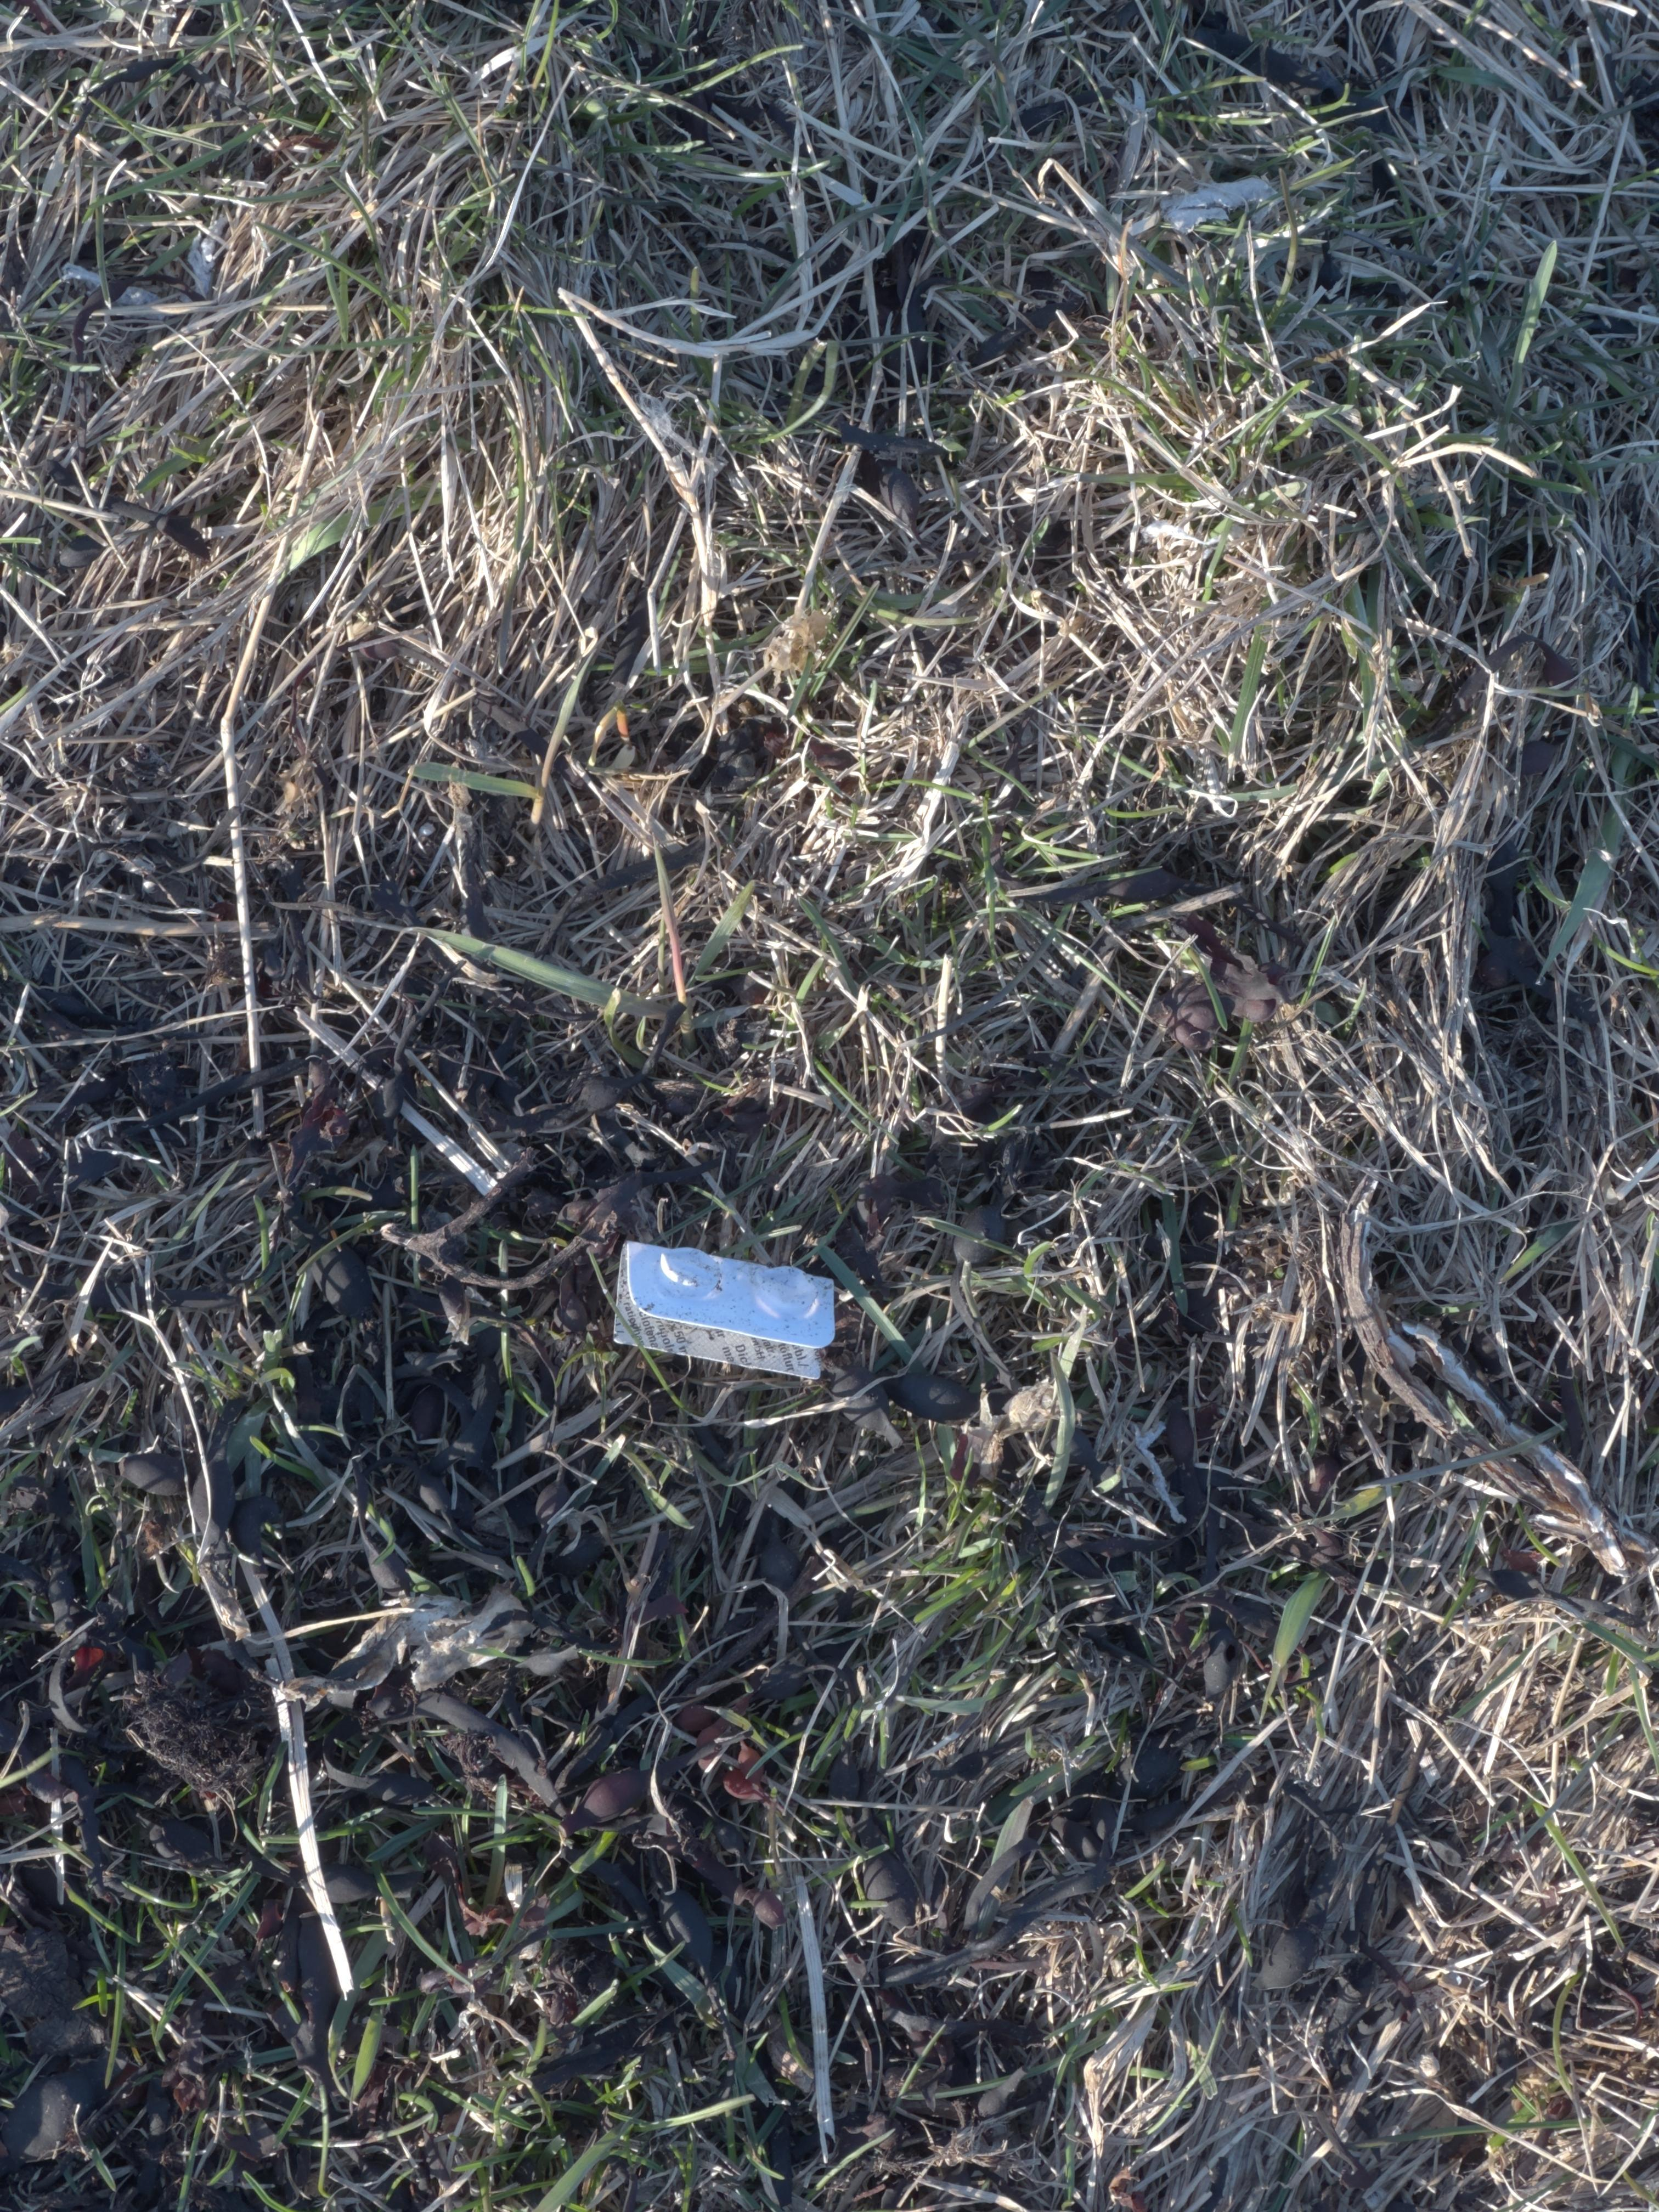trash: (613, 1240, 833, 1378)
